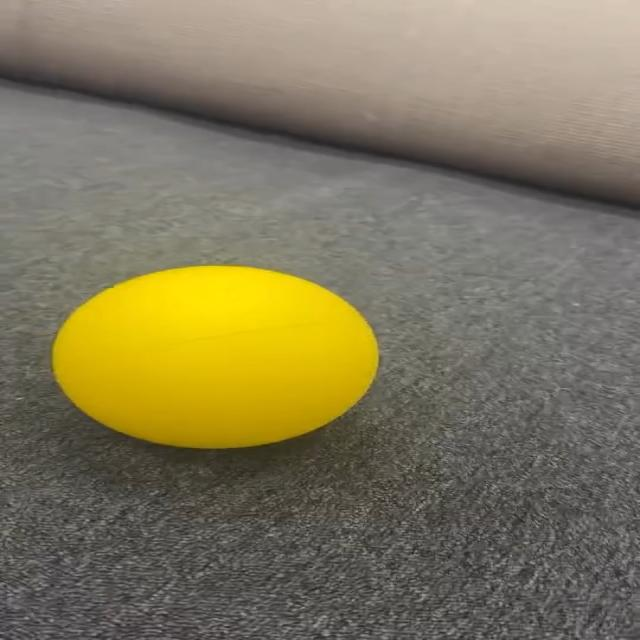Fuels: (53, 266, 380, 447)
